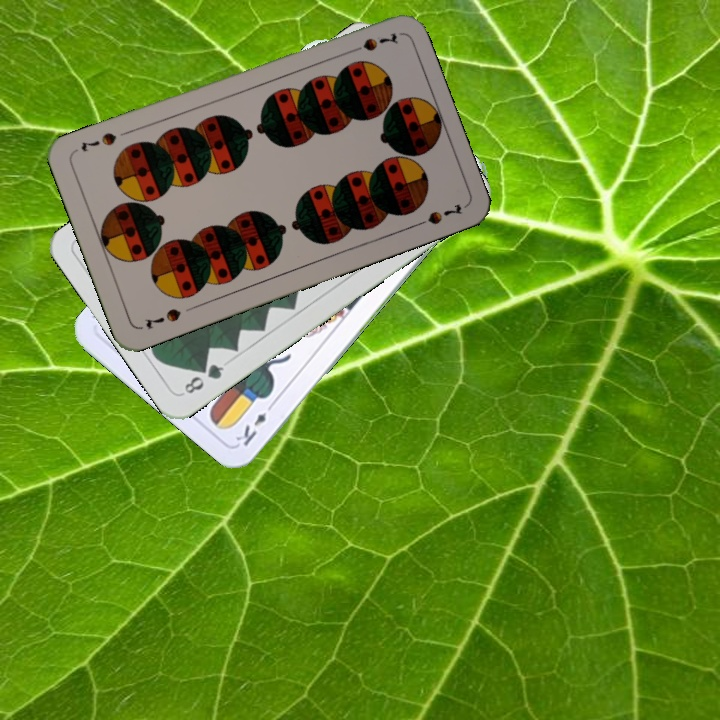EK: (231, 397, 278, 449)
G8: (178, 359, 227, 397)
S7: (343, 29, 401, 56), (140, 304, 184, 332)
